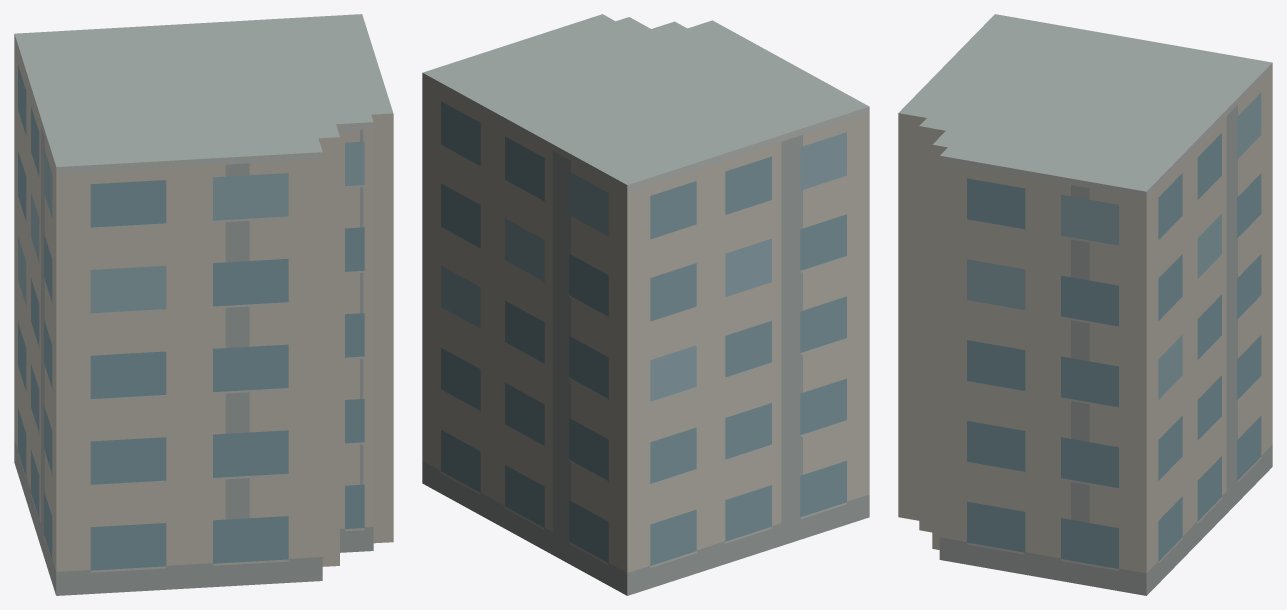
Rendered from residential-4b2386dd-0d45-493e-9ac9-42f9d7fdd31e.glb.
The picture shows the model from 3 angles, left to right: view 1: azimuth 30°, elevation 25°; view 2: azimuth 150°, elevation 25°; view 3: azimuth 270°, elevation 25°; orthographic projection. The views are drawn at different scales.
Parts seen in each view (by area): view 1: residential-4b2386dd-0d45-493e-9ac9-42f9d7fdd31e.tmp; view 2: residential-4b2386dd-0d45-493e-9ac9-42f9d7fdd31e.tmp; view 3: residential-4b2386dd-0d45-493e-9ac9-42f9d7fdd31e.tmp.
Part boxes in pixels (<box>): residential-4b2386dd-0d45-493e-9ac9-42f9d7fdd31e.tmp: <box>14,14,393,595</box>; residential-4b2386dd-0d45-493e-9ac9-42f9d7fdd31e.tmp: <box>422,14,869,595</box>; residential-4b2386dd-0d45-493e-9ac9-42f9d7fdd31e.tmp: <box>898,14,1272,595</box>.
Bounding box in the file's own units: 14.15 × 15 × 12.6.
